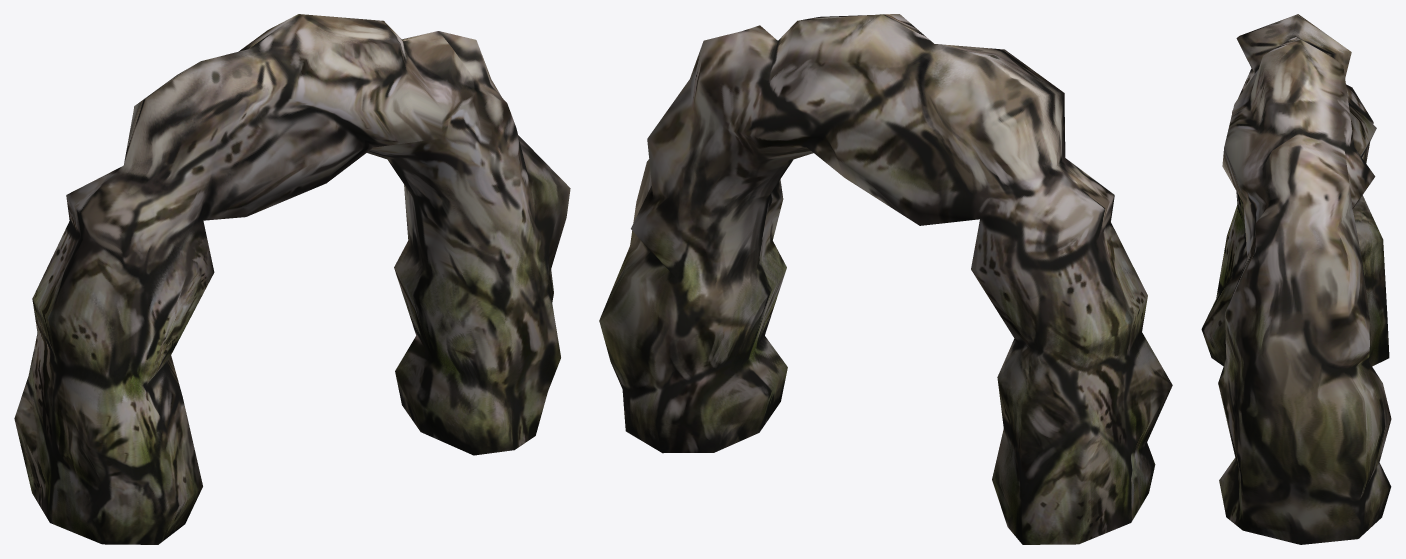
File: STR_ArchBoulder.FBX
3 renders of one model, left to right at view 1: azimuth 30°, elevation 25°; view 2: azimuth 150°, elevation 25°; view 3: azimuth 270°, elevation 25°, orthographic. The views are drawn at different scales.
Visible parts, largest first — view 1: STR_ArchBoulder; view 2: STR_ArchBoulder; view 3: STR_ArchBoulder.
Part boxes in pixels (x1,y1,x2,y2): STR_ArchBoulder: [14, 14, 570, 544]; STR_ArchBoulder: [599, 14, 1172, 544]; STR_ArchBoulder: [1201, 14, 1391, 544].
Size of the model in its own units: 998 by 844 by 362.
Materials: 1 (1 with a texture image).
